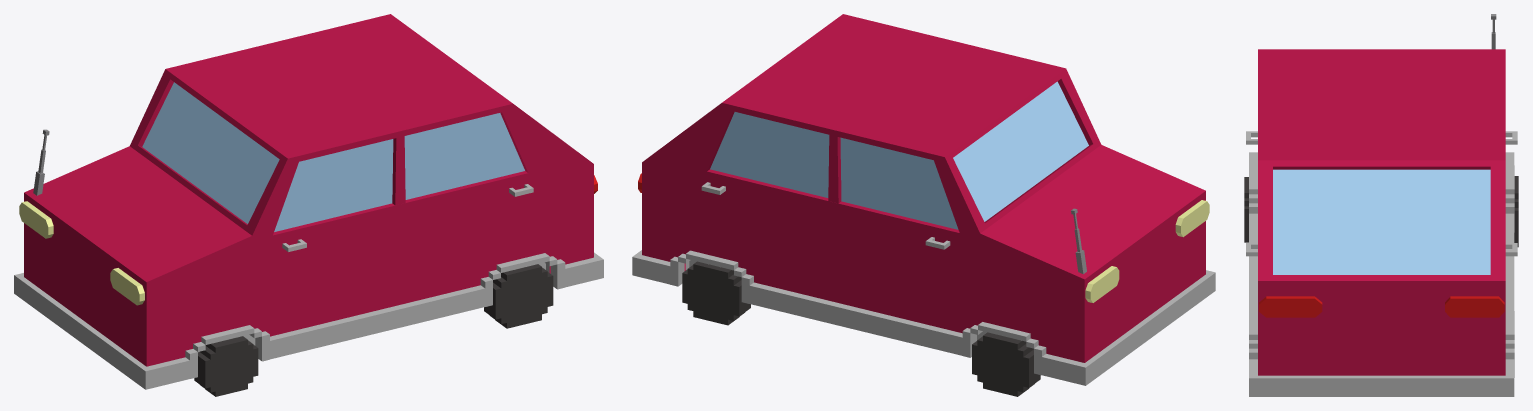
Rendered from car 2.fbx.
3 views of the same model, side by side, from view 1: azimuth 30°, elevation 25°; view 2: azimuth 150°, elevation 25°; view 3: azimuth 270°, elevation 25° (orthographic). The views are drawn at different scales.
Parts seen in each view (by area): view 1: pCube58; view 2: pCube58; view 3: pCube58.
Part boxes in pixels (x1=…): pCube58: x1=14, y1=14, x2=603, y2=396; pCube58: x1=632, y1=14, x2=1215, y2=396; pCube58: x1=1244, y1=14, x2=1518, y2=396.
Bounding box in the file's own units: 75.38 × 34.5 × 38.7.
1 material, 1 textured.
